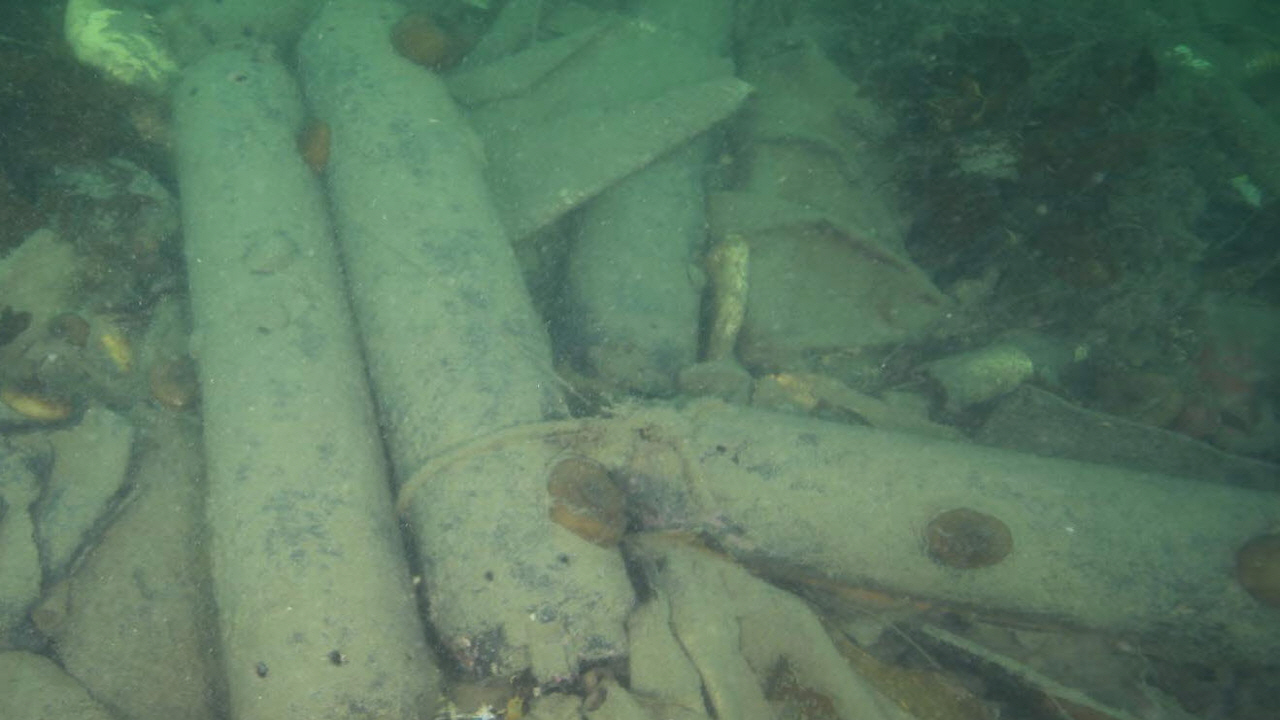bundle of ropes: (388, 387, 758, 553)
eel fish trap: (295, 0, 636, 683), (170, 37, 442, 720), (614, 393, 1280, 654)
